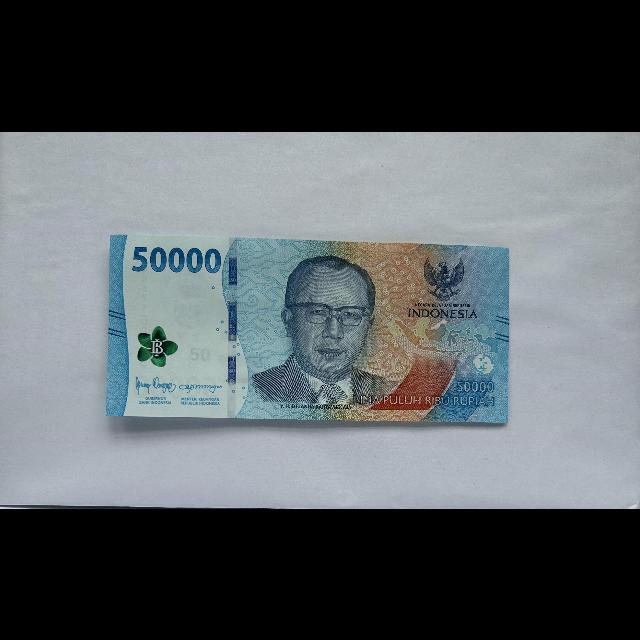Asli-50k: (105, 233, 511, 424)
Tinta-Asli-50k: (137, 324, 180, 368)
